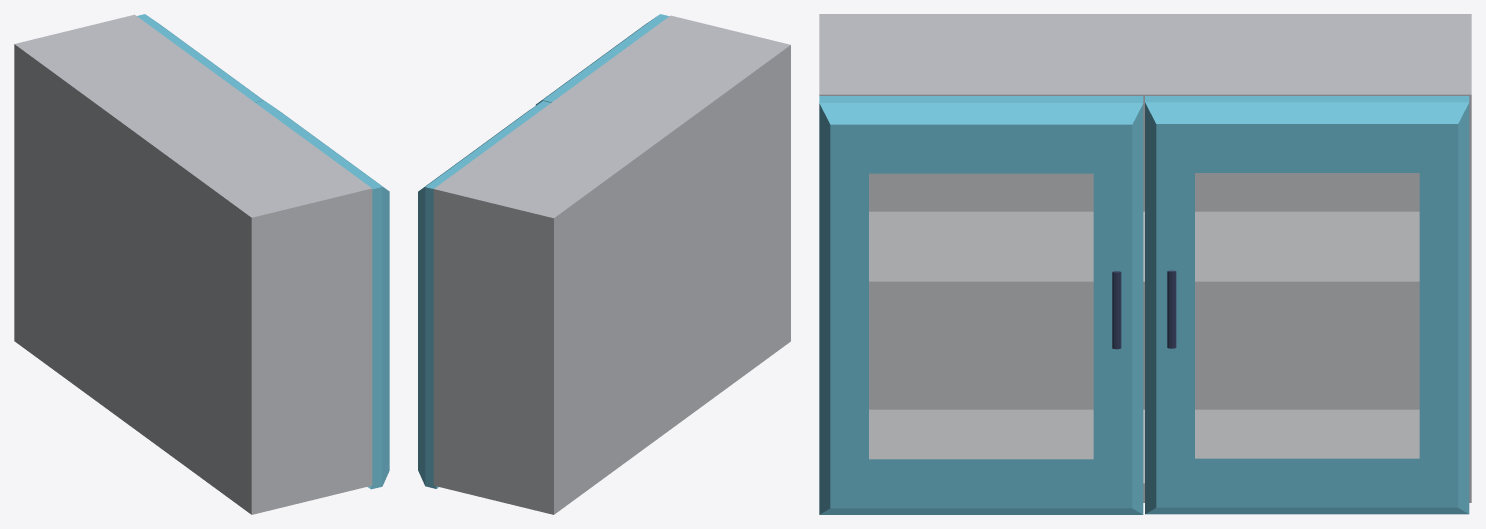
File: KabinetAtas2.fbx
The picture shows the model from 3 angles, left to right: view 1: azimuth 30°, elevation 25°; view 2: azimuth 150°, elevation 25°; view 3: azimuth 270°, elevation 25°; orthographic projection. The views are drawn at different scales.
Parts seen in each view (by area): view 1: Cylinder.007; view 2: Cylinder.007; view 3: Cylinder.007.
Part boxes in pixels (x1,y1,x2,y2): Cylinder.007: [14, 14, 389, 514]; Cylinder.007: [418, 14, 790, 514]; Cylinder.007: [819, 14, 1471, 514].
Size of the model in its own units: 89.74 by 169 by 242.
